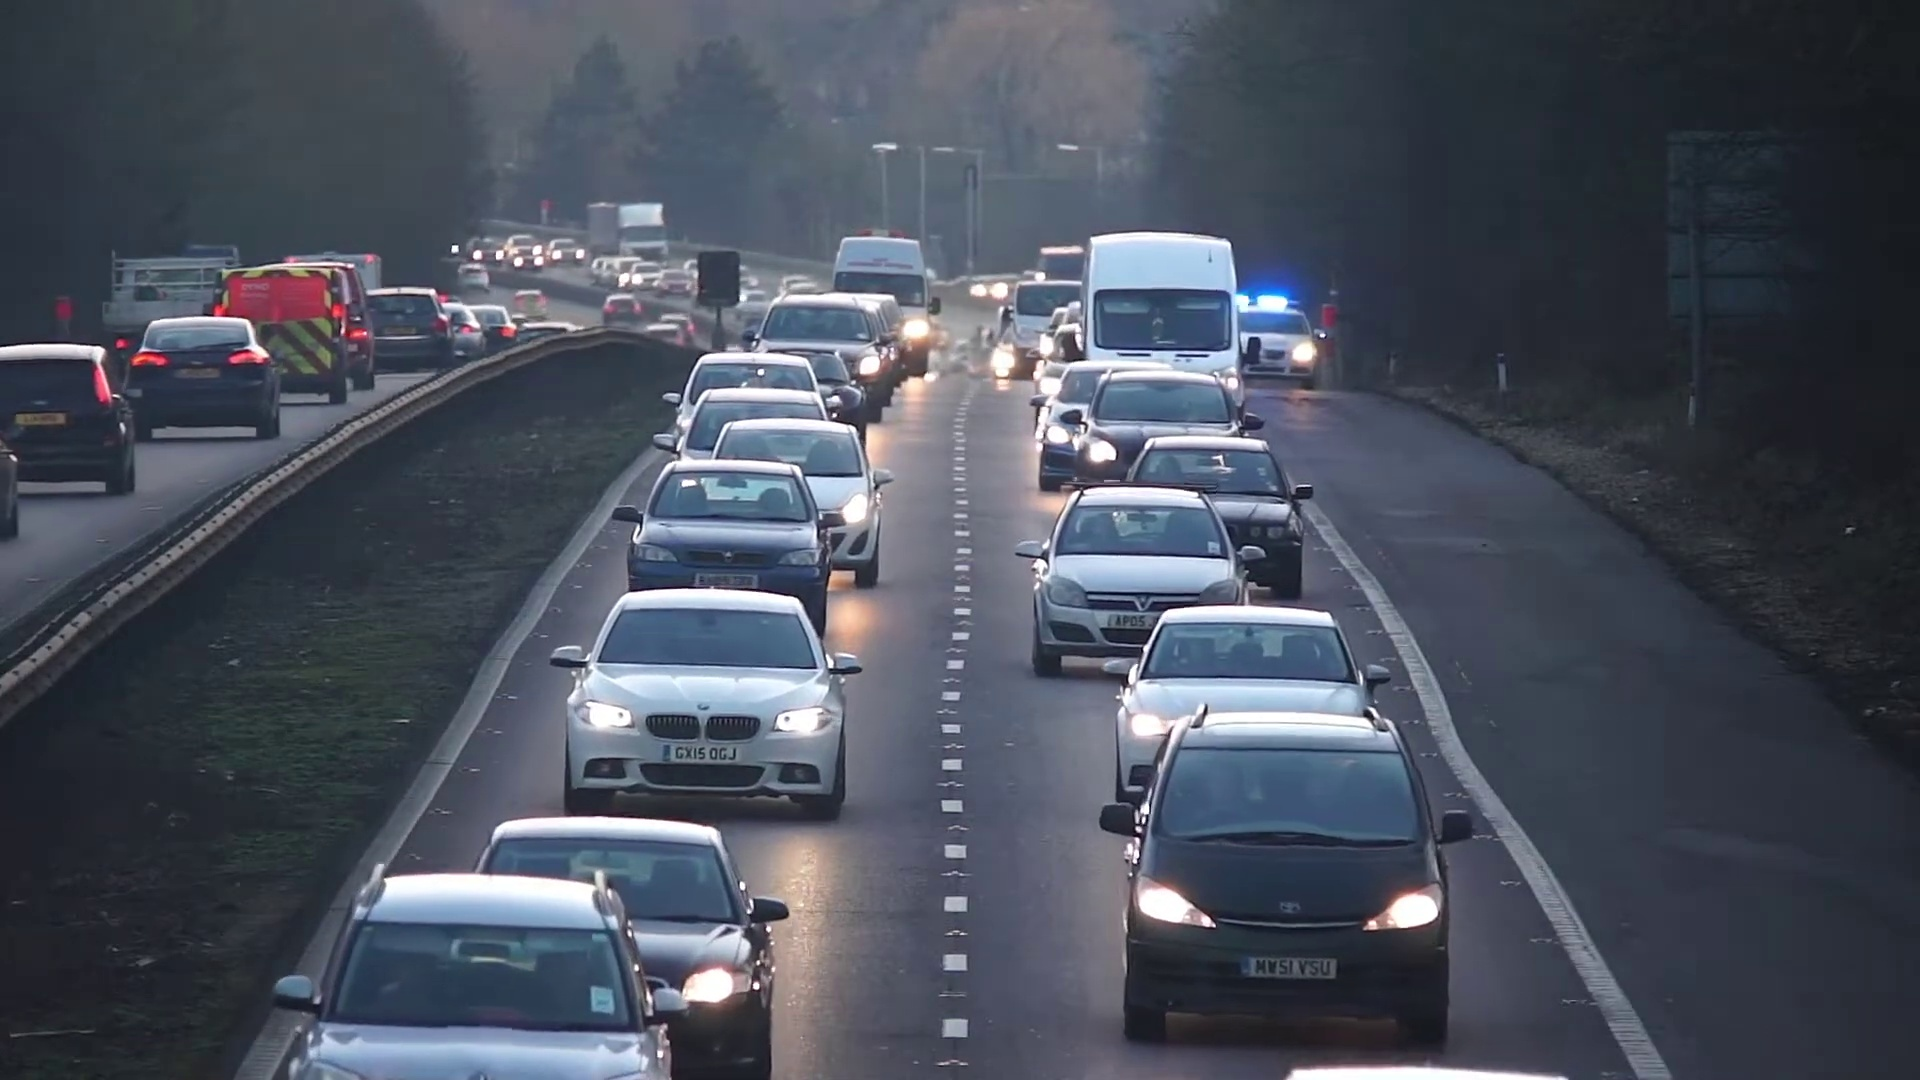license_plate: (1248, 952, 1338, 983), (665, 742, 741, 764), (693, 568, 761, 592), (1107, 610, 1152, 627)
